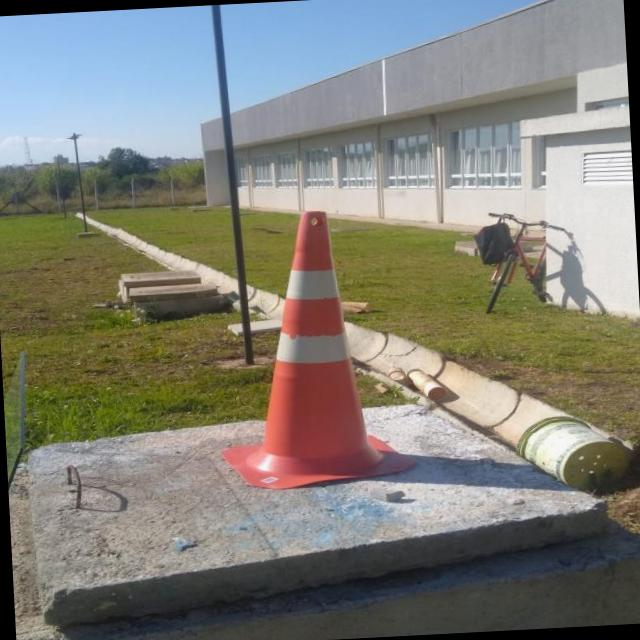Cone: (198, 197, 428, 496)
